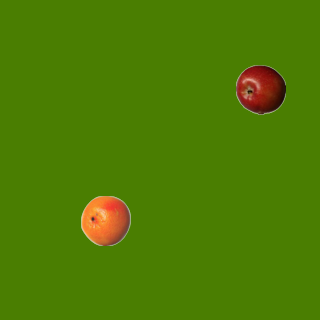Apple Braeburn: (235, 64, 285, 114)
Grapefruit Pink: (80, 195, 130, 245)
